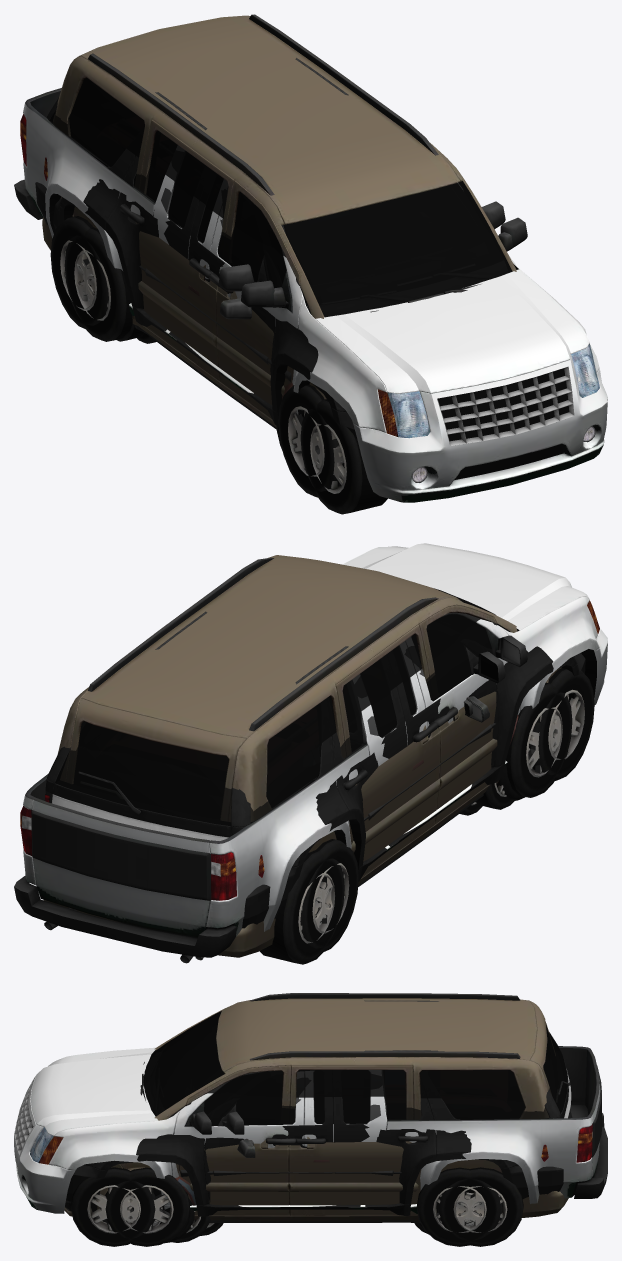
The model's file is voertuigen.glb.
3 views of the same model, one above another, from view 1: azimuth 30°, elevation 25°; view 2: azimuth 150°, elevation 25°; view 3: azimuth 270°, elevation 25° (orthographic). The views are drawn at different scales.
Parts seen in each view (by area): view 1: minivan-body, pickup-wit-body, minivan-glass, suv-body, pickup-wit-wheel, suv-wheel, suv-glass, pickup-wit-optics, pickup-wit-glass, stationwagen-body; view 2: minivan-body, pickup-wit-body, suv-body, minivan-glass, suv-glass, pickup-wit-wheel, suv-wheel, pickup-wit-glass, pickup-wit-optics, stationwagen-body, hatchback-wheek; view 3: minivan-body, pickup-wit-body, suv-body, minivan-glass, pickup-wit-wheel, suv-wheel, suv-glass, pickup-wit-glass, pickup-wit-optics, stationwagen-body, hatchback-wheek.
Boxes of the visible parts, bbox=[...] form: minivan-body: bbox=[42, 14, 517, 427]; pickup-wit-body: bbox=[14, 88, 607, 502]; minivan-glass: bbox=[69, 78, 512, 317]; suv-body: bbox=[35, 58, 505, 454]; pickup-wit-wheel: bbox=[50, 216, 387, 514]; suv-wheel: bbox=[64, 227, 343, 497]; suv-glass: bbox=[49, 79, 244, 258]; pickup-wit-optics: bbox=[20, 114, 599, 482]; pickup-wit-glass: bbox=[168, 189, 377, 305]; stationwagen-body: bbox=[135, 285, 292, 429]; minivan-body: bbox=[43, 555, 561, 960]; pickup-wit-body: bbox=[14, 543, 607, 963]; suv-body: bbox=[45, 611, 585, 928]; minivan-glass: bbox=[74, 588, 510, 819]; suv-glass: bbox=[55, 653, 449, 826]; pickup-wit-wheel: bbox=[259, 668, 594, 964]; suv-wheel: bbox=[300, 682, 572, 951]; pickup-wit-glass: bbox=[373, 624, 506, 736]; pickup-wit-optics: bbox=[20, 600, 599, 900]; stationwagen-body: bbox=[358, 696, 518, 886]; hatchback-wheek: bbox=[475, 783, 514, 809]; minivan-body: bbox=[64, 993, 568, 1220]; pickup-wit-body: bbox=[14, 1046, 607, 1213]; suv-body: bbox=[65, 1000, 572, 1230]; minivan-glass: bbox=[143, 1011, 558, 1119]; pickup-wit-wheel: bbox=[71, 1167, 523, 1246]; suv-wheel: bbox=[105, 1167, 502, 1246]; suv-glass: bbox=[262, 1033, 567, 1124]; pickup-wit-glass: bbox=[173, 1044, 369, 1126]; pickup-wit-optics: bbox=[30, 1124, 592, 1164]; stationwagen-body: bbox=[175, 1138, 420, 1223]; hatchback-wheek: bbox=[172, 1211, 210, 1242].
Bounding box in the file's own units: 2.07 × 1.76 × 5.18.
Materials: 21 (14 with a texture image).
